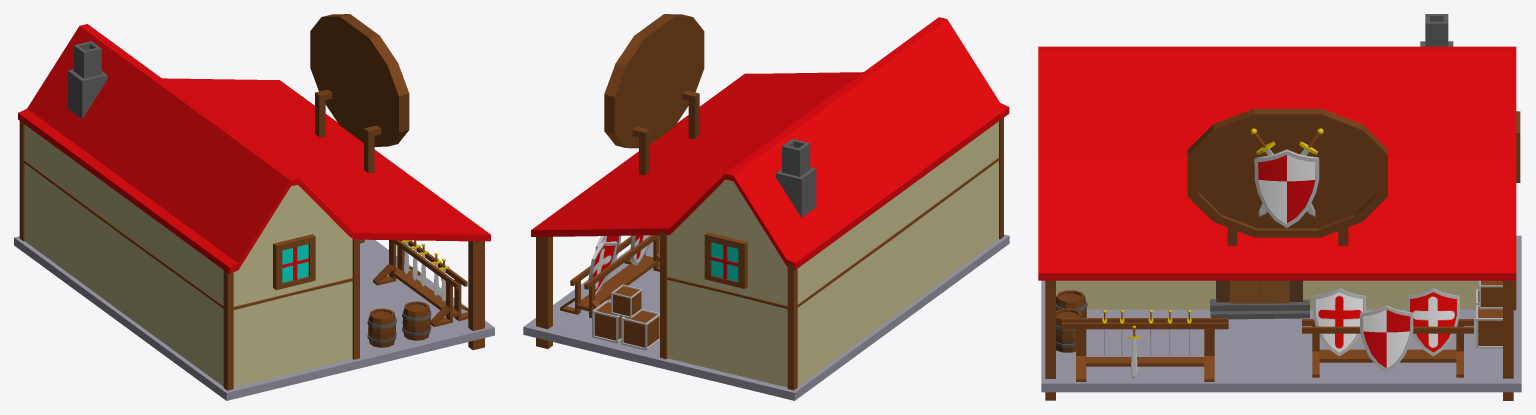
File: weapon shop.fbx
3 renders of one model, left to right at view 1: azimuth 30°, elevation 25°; view 2: azimuth 150°, elevation 25°; view 3: azimuth 270°, elevation 25°, orthographic. The views are drawn at different scales.
Visible parts, largest first — view 1: roof, walls, emblem.003, ground.002, weapon stand.003, schoorsteen.002, barrels, window; view 2: roof, walls, emblem.003, ground.002, weapon stand.004, crates.002, schoorsteen.002, window; view 3: roof, ground.002, emblem.003, weapon stand.004, walls, weapon stand.003, door.001, crates.002, barrels, schoorsteen.002.
Boxes of the visible parts, box(x1,y1,x2,y2) form: roof: box(18, 24, 490, 350); walls: box(19, 121, 359, 390); emblem.003: box(310, 14, 409, 173); ground.002: box(14, 236, 494, 400); weapon stand.003: box(373, 240, 468, 326); schoorsteen.002: box(67, 41, 107, 119); barrels: box(367, 301, 431, 347); window: box(273, 234, 315, 290); roof: box(531, 17, 1009, 348); walls: box(660, 118, 1003, 390); emblem.003: box(604, 14, 704, 174); ground.002: box(523, 234, 1009, 400); weapon stand.004: box(560, 235, 659, 318); crates.002: box(592, 284, 659, 350); schoorsteen.002: box(776, 139, 816, 217); window: box(704, 232, 747, 288); roof: box(1038, 46, 1516, 400); ground.002: box(1041, 235, 1521, 392); emblem.003: box(1187, 108, 1387, 245); weapon stand.004: box(1302, 288, 1473, 377); walls: box(1056, 280, 1516, 310); weapon stand.003: box(1062, 310, 1228, 381); door.001: box(1210, 280, 1309, 319); crates.002: box(1476, 280, 1502, 348); barrels: box(1056, 290, 1087, 352); schoorsteen.002: box(1420, 14, 1453, 46).
Size of the model in its own units: 7.79 by 6.87 by 10.76.
Materials: 16 (2 with a texture image).
